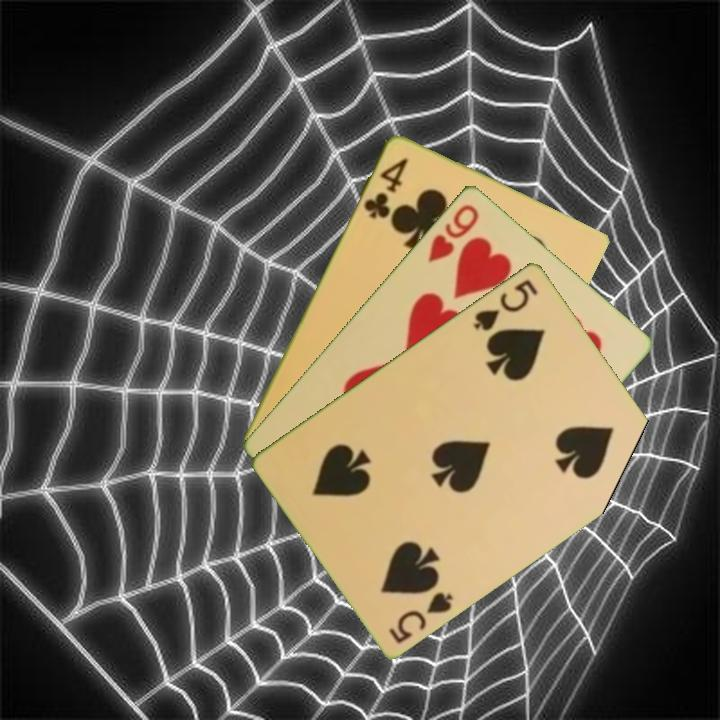4c: (359, 153, 411, 222)
5s: (469, 275, 541, 334), (385, 587, 456, 646)
9h: (424, 200, 482, 264)
